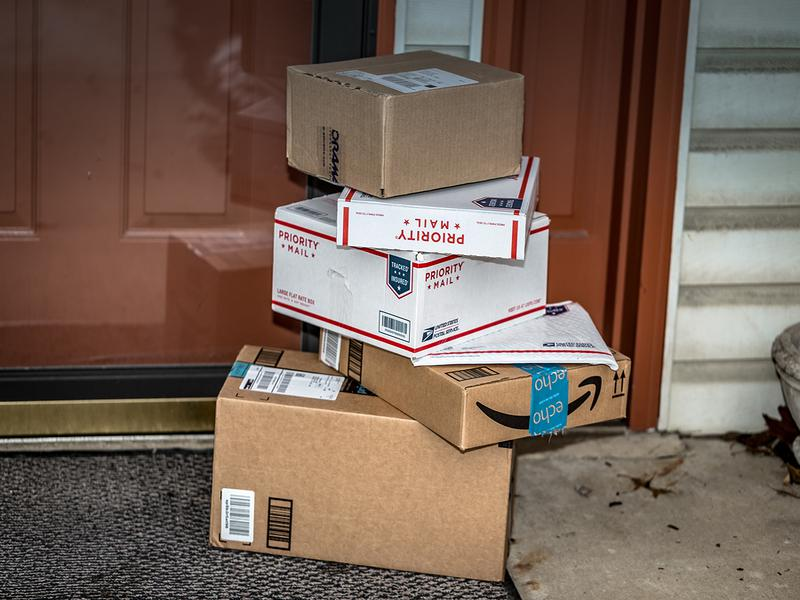package: (197, 338, 522, 588), (267, 201, 560, 360), (319, 326, 639, 452), (279, 44, 533, 202), (333, 185, 549, 268)
